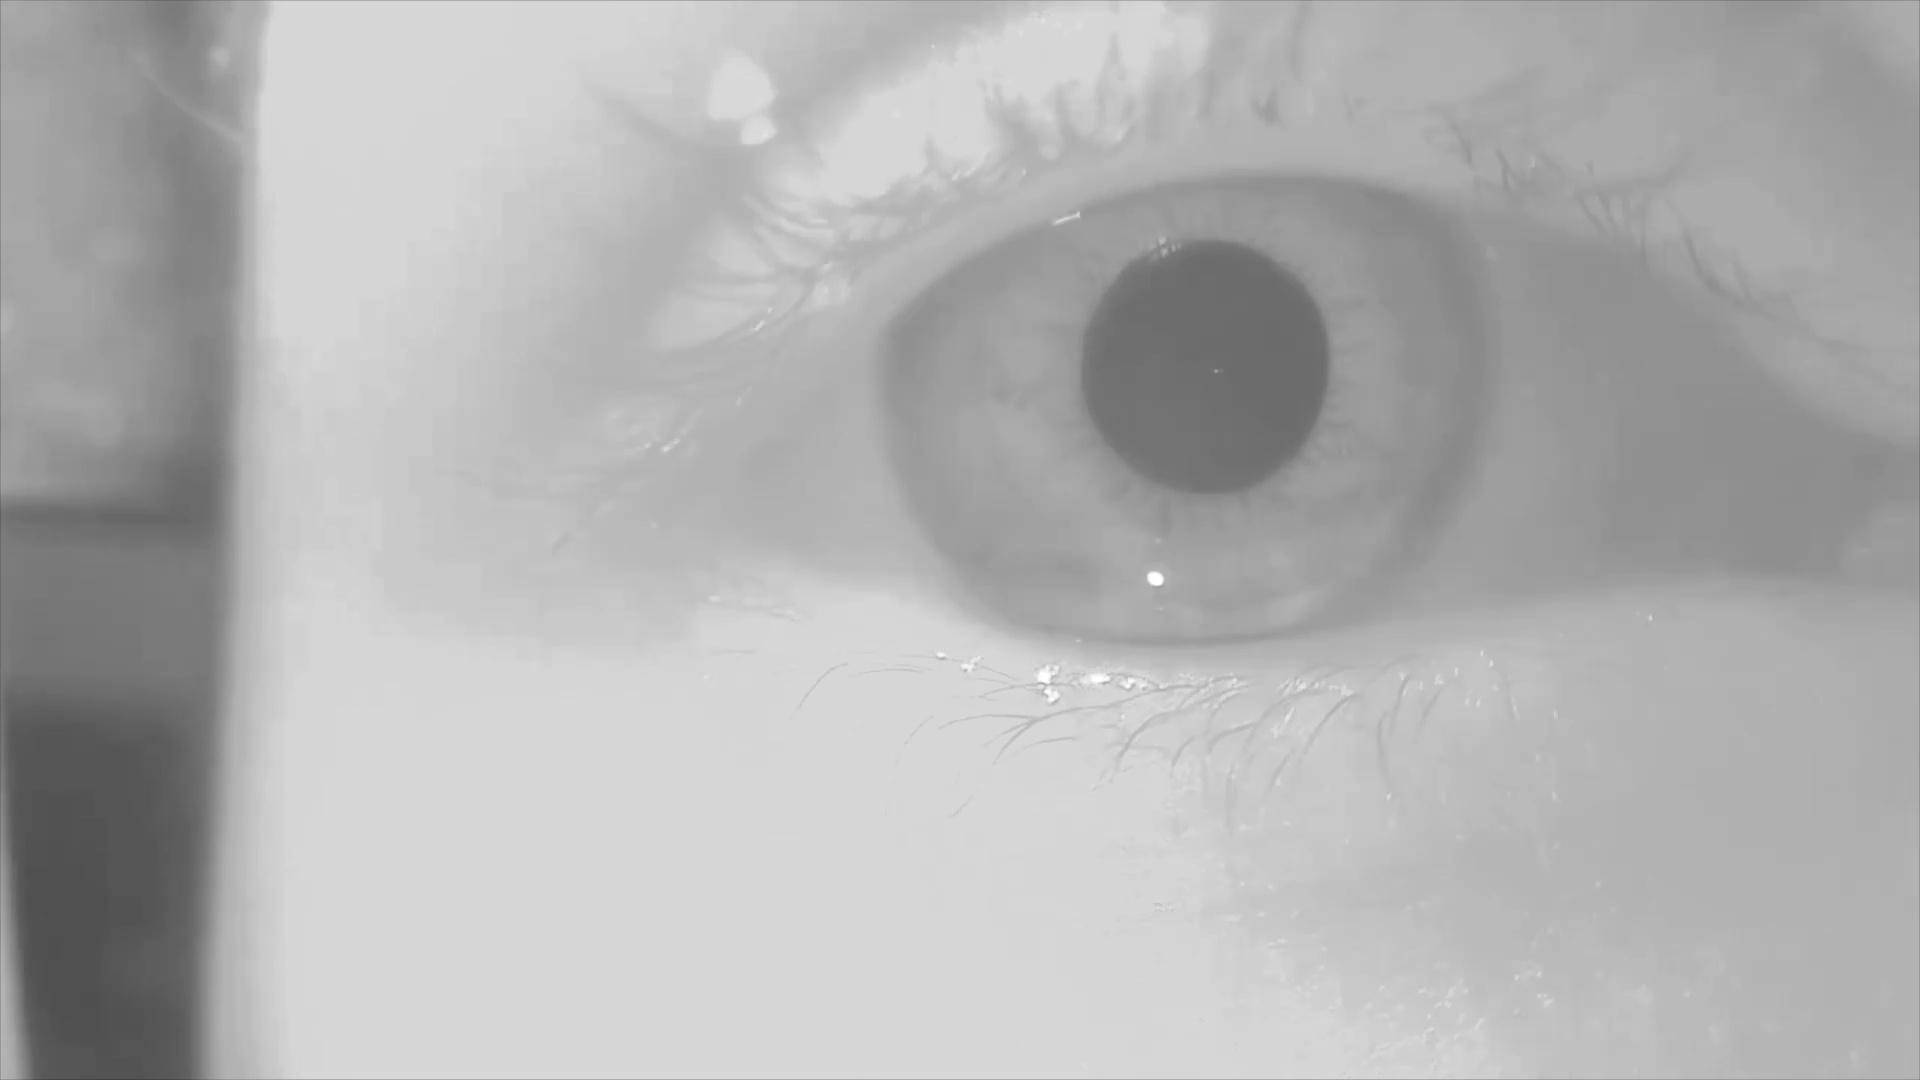pupil: (1083, 244, 1331, 491)
